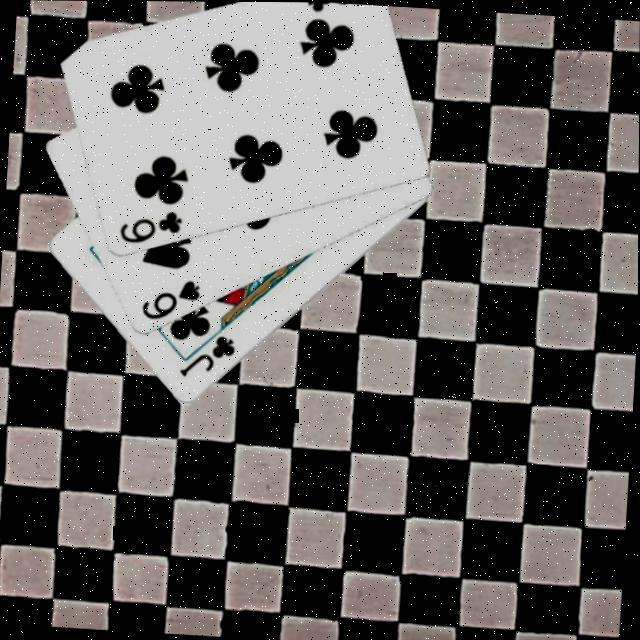6C: (114, 207, 184, 251), (300, 2, 368, 20)
6S: (136, 276, 202, 327)
JC: (174, 332, 238, 385)
